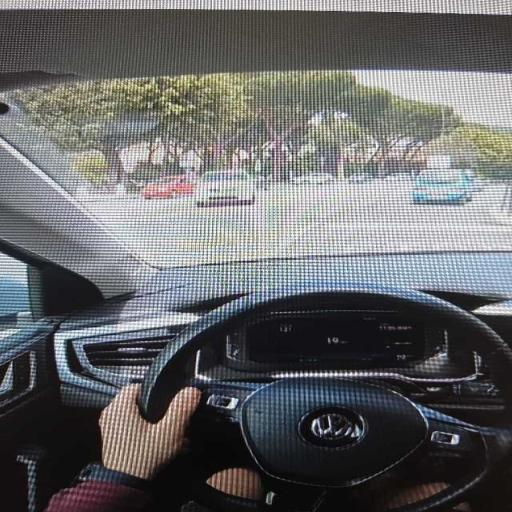car: (0, 0, 511, 511), (194, 170, 256, 206), (412, 169, 473, 204), (142, 176, 195, 199), (291, 173, 334, 184), (348, 173, 371, 183)
lane: (89, 181, 511, 265)
person: (46, 385, 200, 511)
